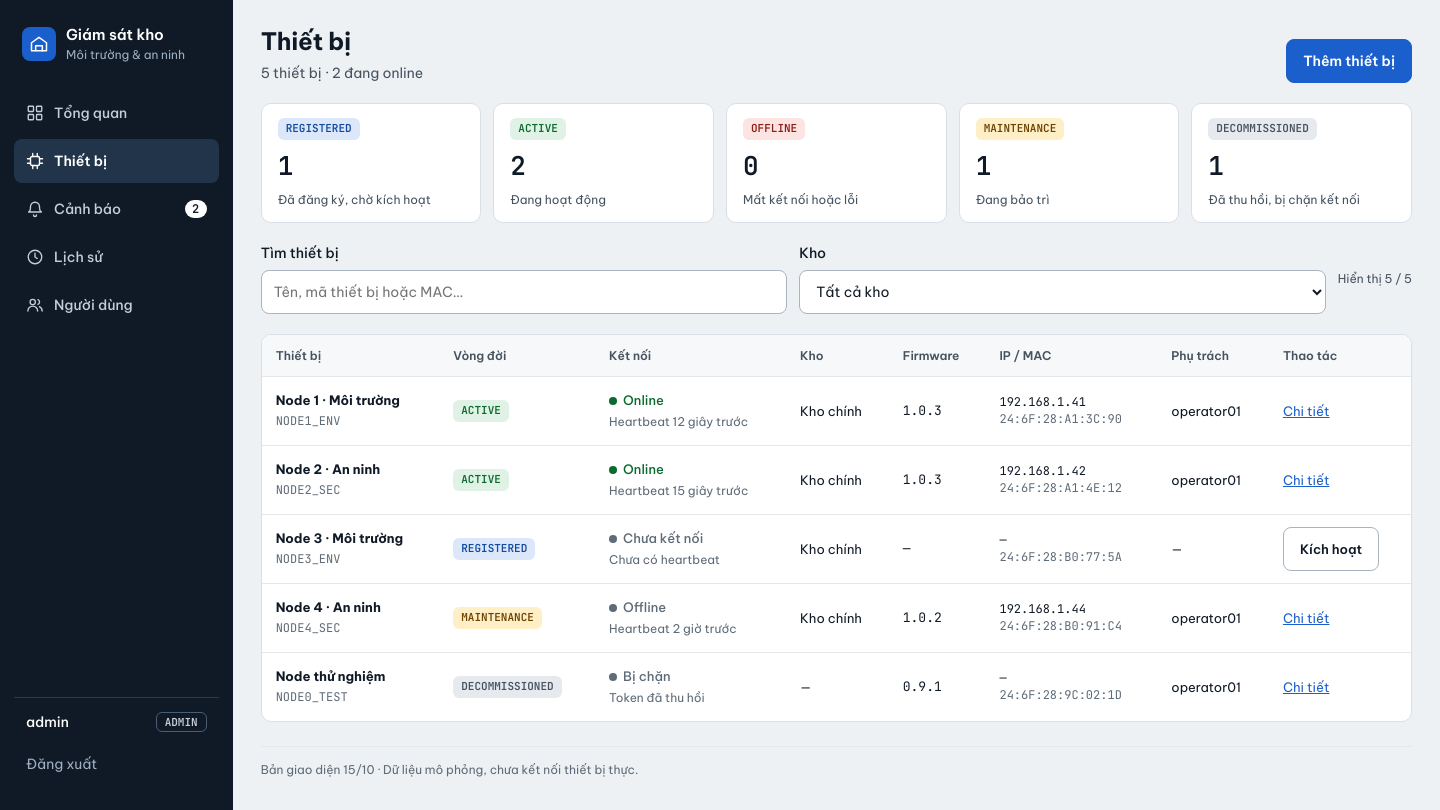
AC-3 and AC-6: login and honest prototype interactions › logs out and removes authenticated content
expect the heading "Thiết bị" is shown: met, box [261,26,351,56]
Click the button "Đăng xuất".
click(116, 764)  # box [26,742,207,786]
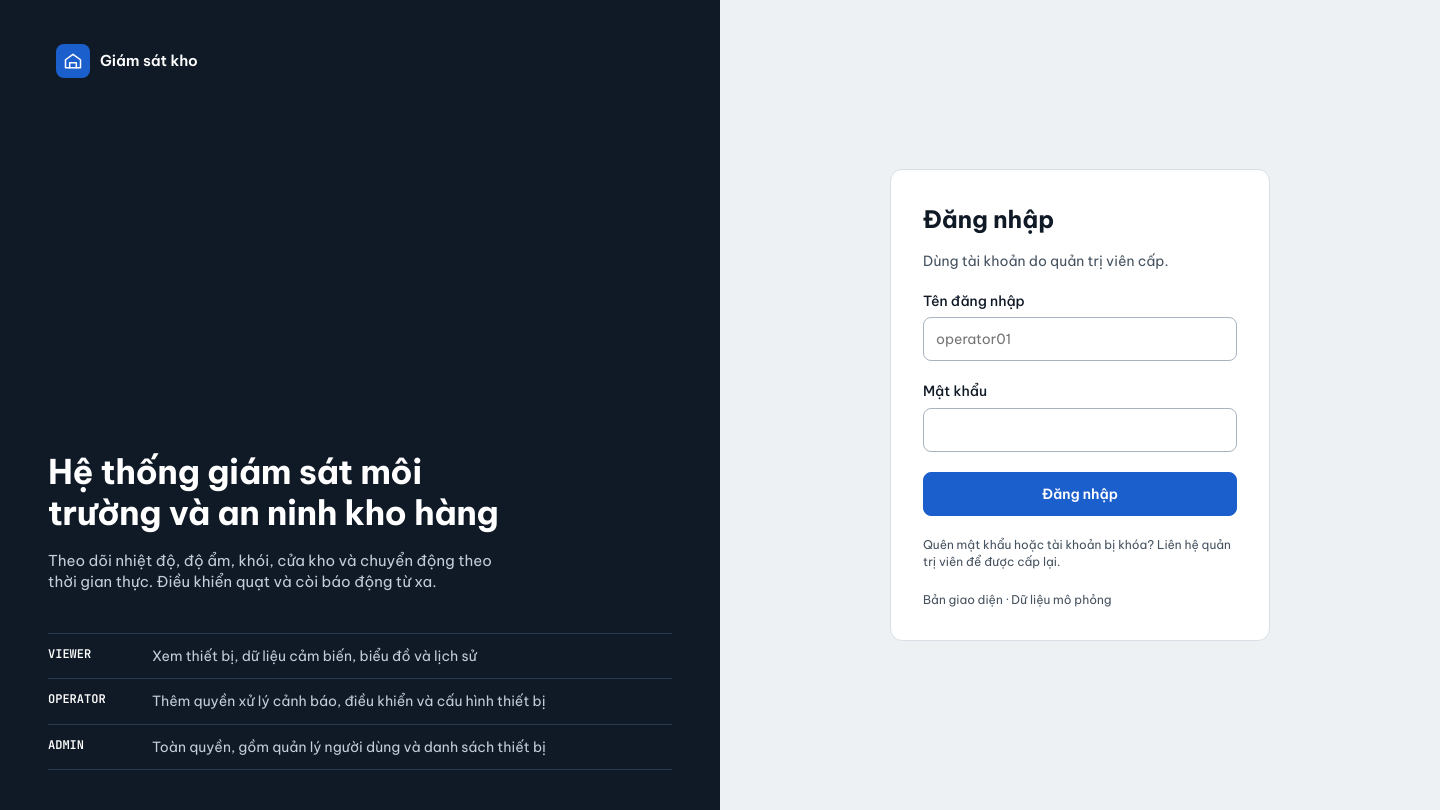
expect the field labelled "Tên đăng nhập" is shown: met, box [923,318,1237,362]
expect the navigation bar is gone: met
